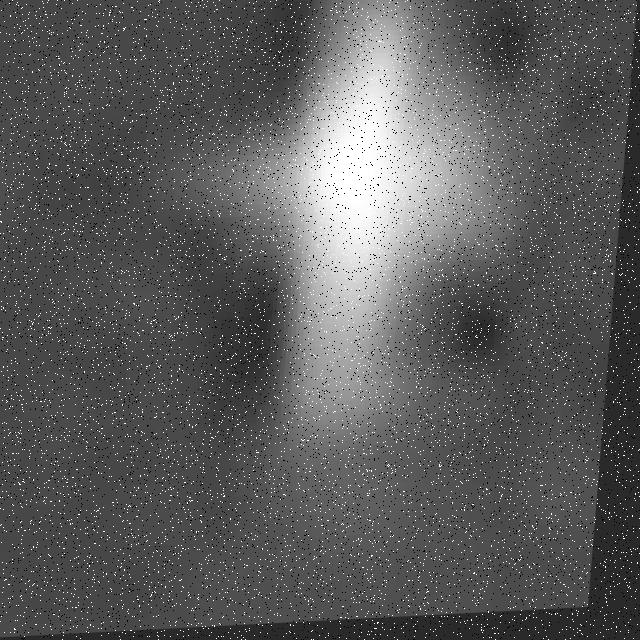person: (241, 1, 508, 456)
